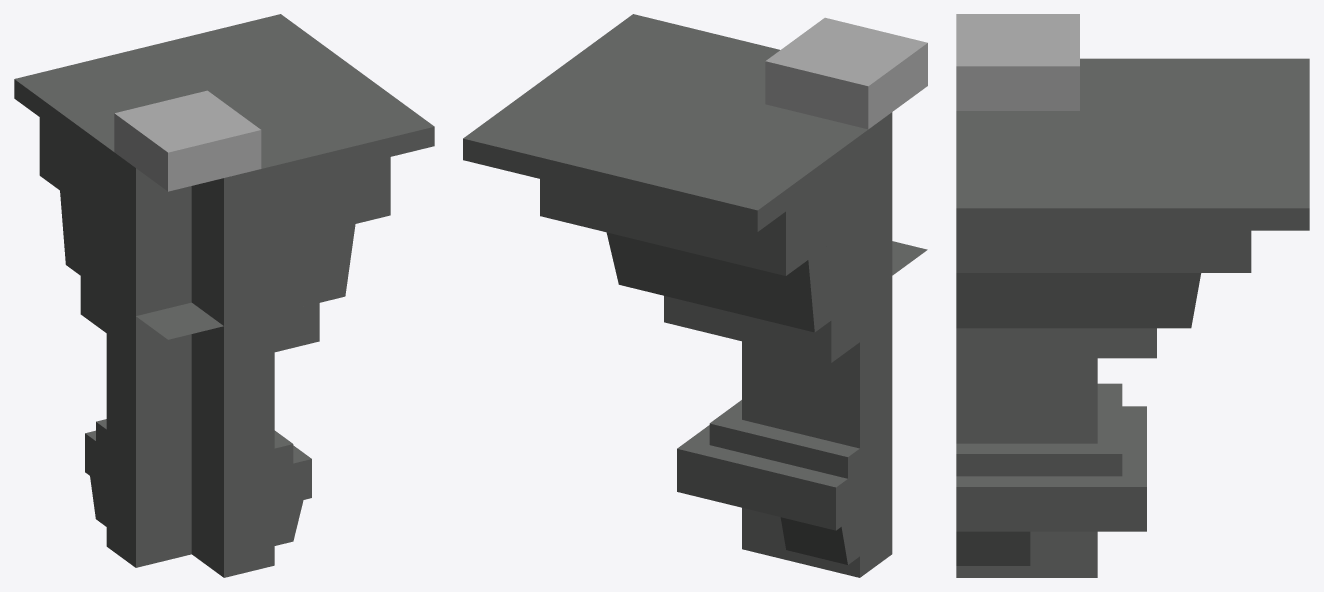
Rendered from SM_cornice_01_corner.glb.
3 views of the same model, side by side, from view 1: azimuth 30°, elevation 25°; view 2: azimuth 150°, elevation 25°; view 3: azimuth 270°, elevation 25° (orthographic). The views are drawn at different scales.
Parts seen in each view (by area): view 1: SM_cornice_01_corner; view 2: SM_cornice_01_corner; view 3: SM_cornice_01_corner.
Part boxes in pixels (x1,y1,x2,y2): SM_cornice_01_corner: (14,14,434,577); SM_cornice_01_corner: (463,14,927,577); SM_cornice_01_corner: (956,14,1309,577).
Size of the model in its own units: 0.715 by 1.13 by 0.715.
Materials: 1 (1 with a texture image).
